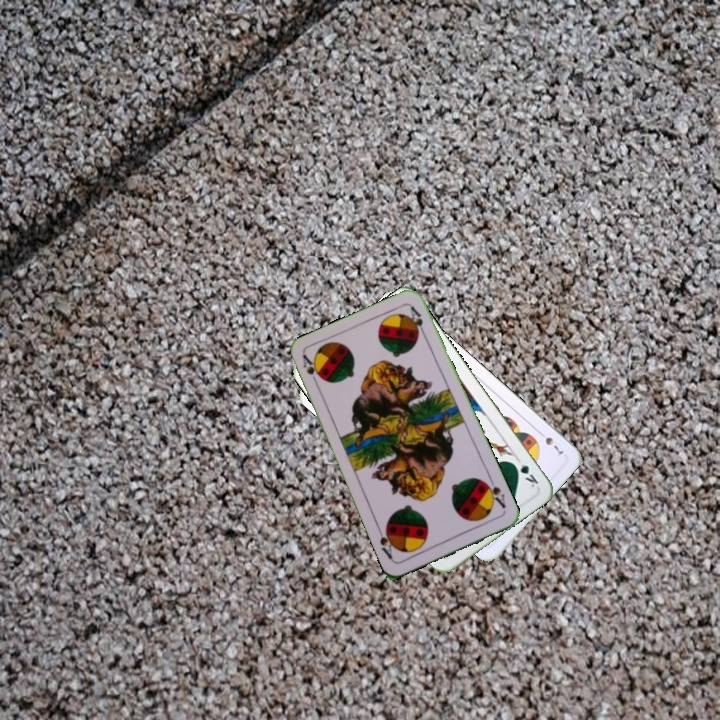GK: (508, 454, 541, 490)
S7: (534, 427, 566, 457)
SA: (480, 474, 509, 511), (299, 351, 321, 390)
